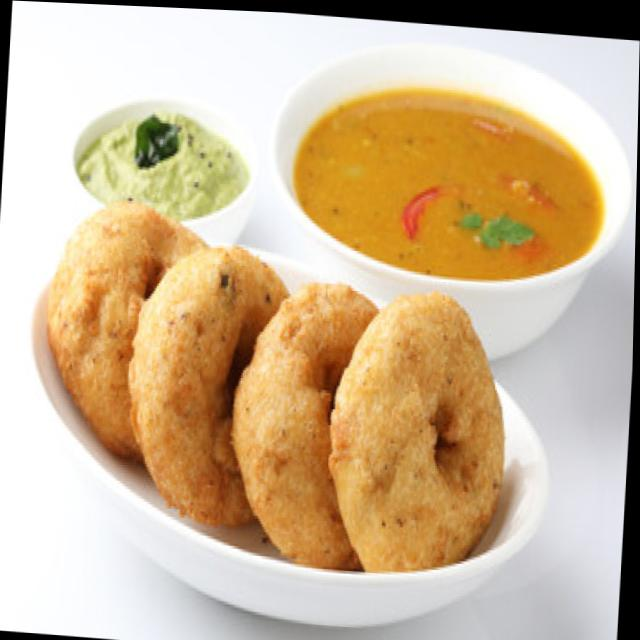SAMBAR: (266, 45, 639, 282)
VADA: (21, 208, 519, 616)
WHITE CHUTNEY: (48, 95, 258, 223)
